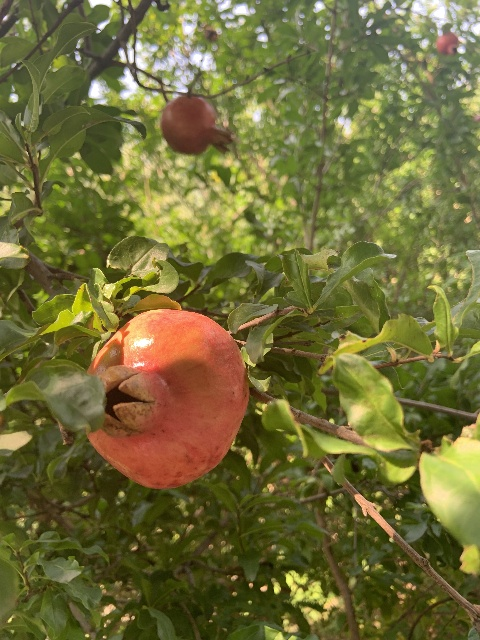ripe: (85, 308, 249, 488), (160, 95, 232, 155), (435, 33, 458, 55)
